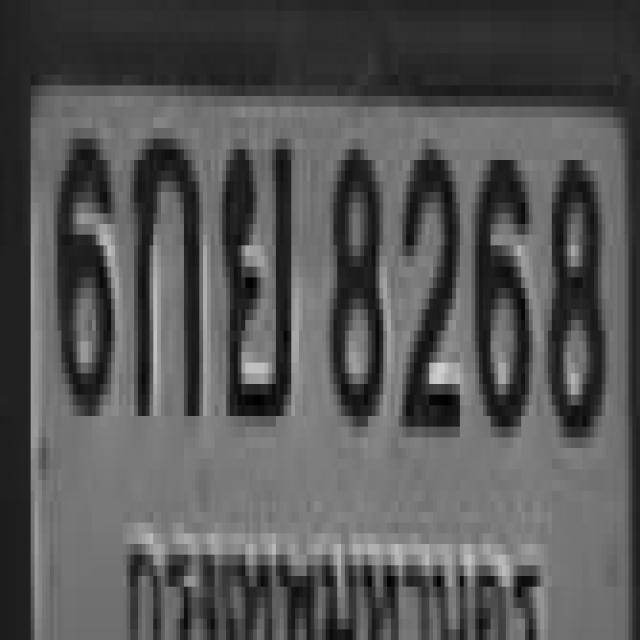10GorGai: (130, 128, 196, 405)
2: (399, 138, 456, 426)
43YorYak: (218, 128, 288, 416)
6: (471, 149, 525, 427), (54, 128, 107, 405)
8: (544, 149, 602, 427), (326, 139, 379, 416)
Bangkok: (115, 516, 556, 640)
